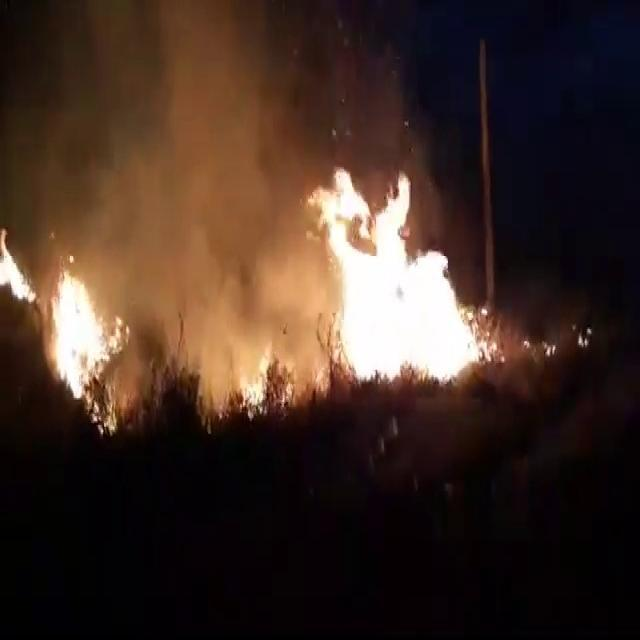Fire: (313, 184, 494, 373), (47, 265, 127, 425), (2, 234, 34, 298), (241, 367, 266, 412)
Smoke: (31, 16, 317, 249), (140, 151, 254, 369), (258, 256, 340, 396)
